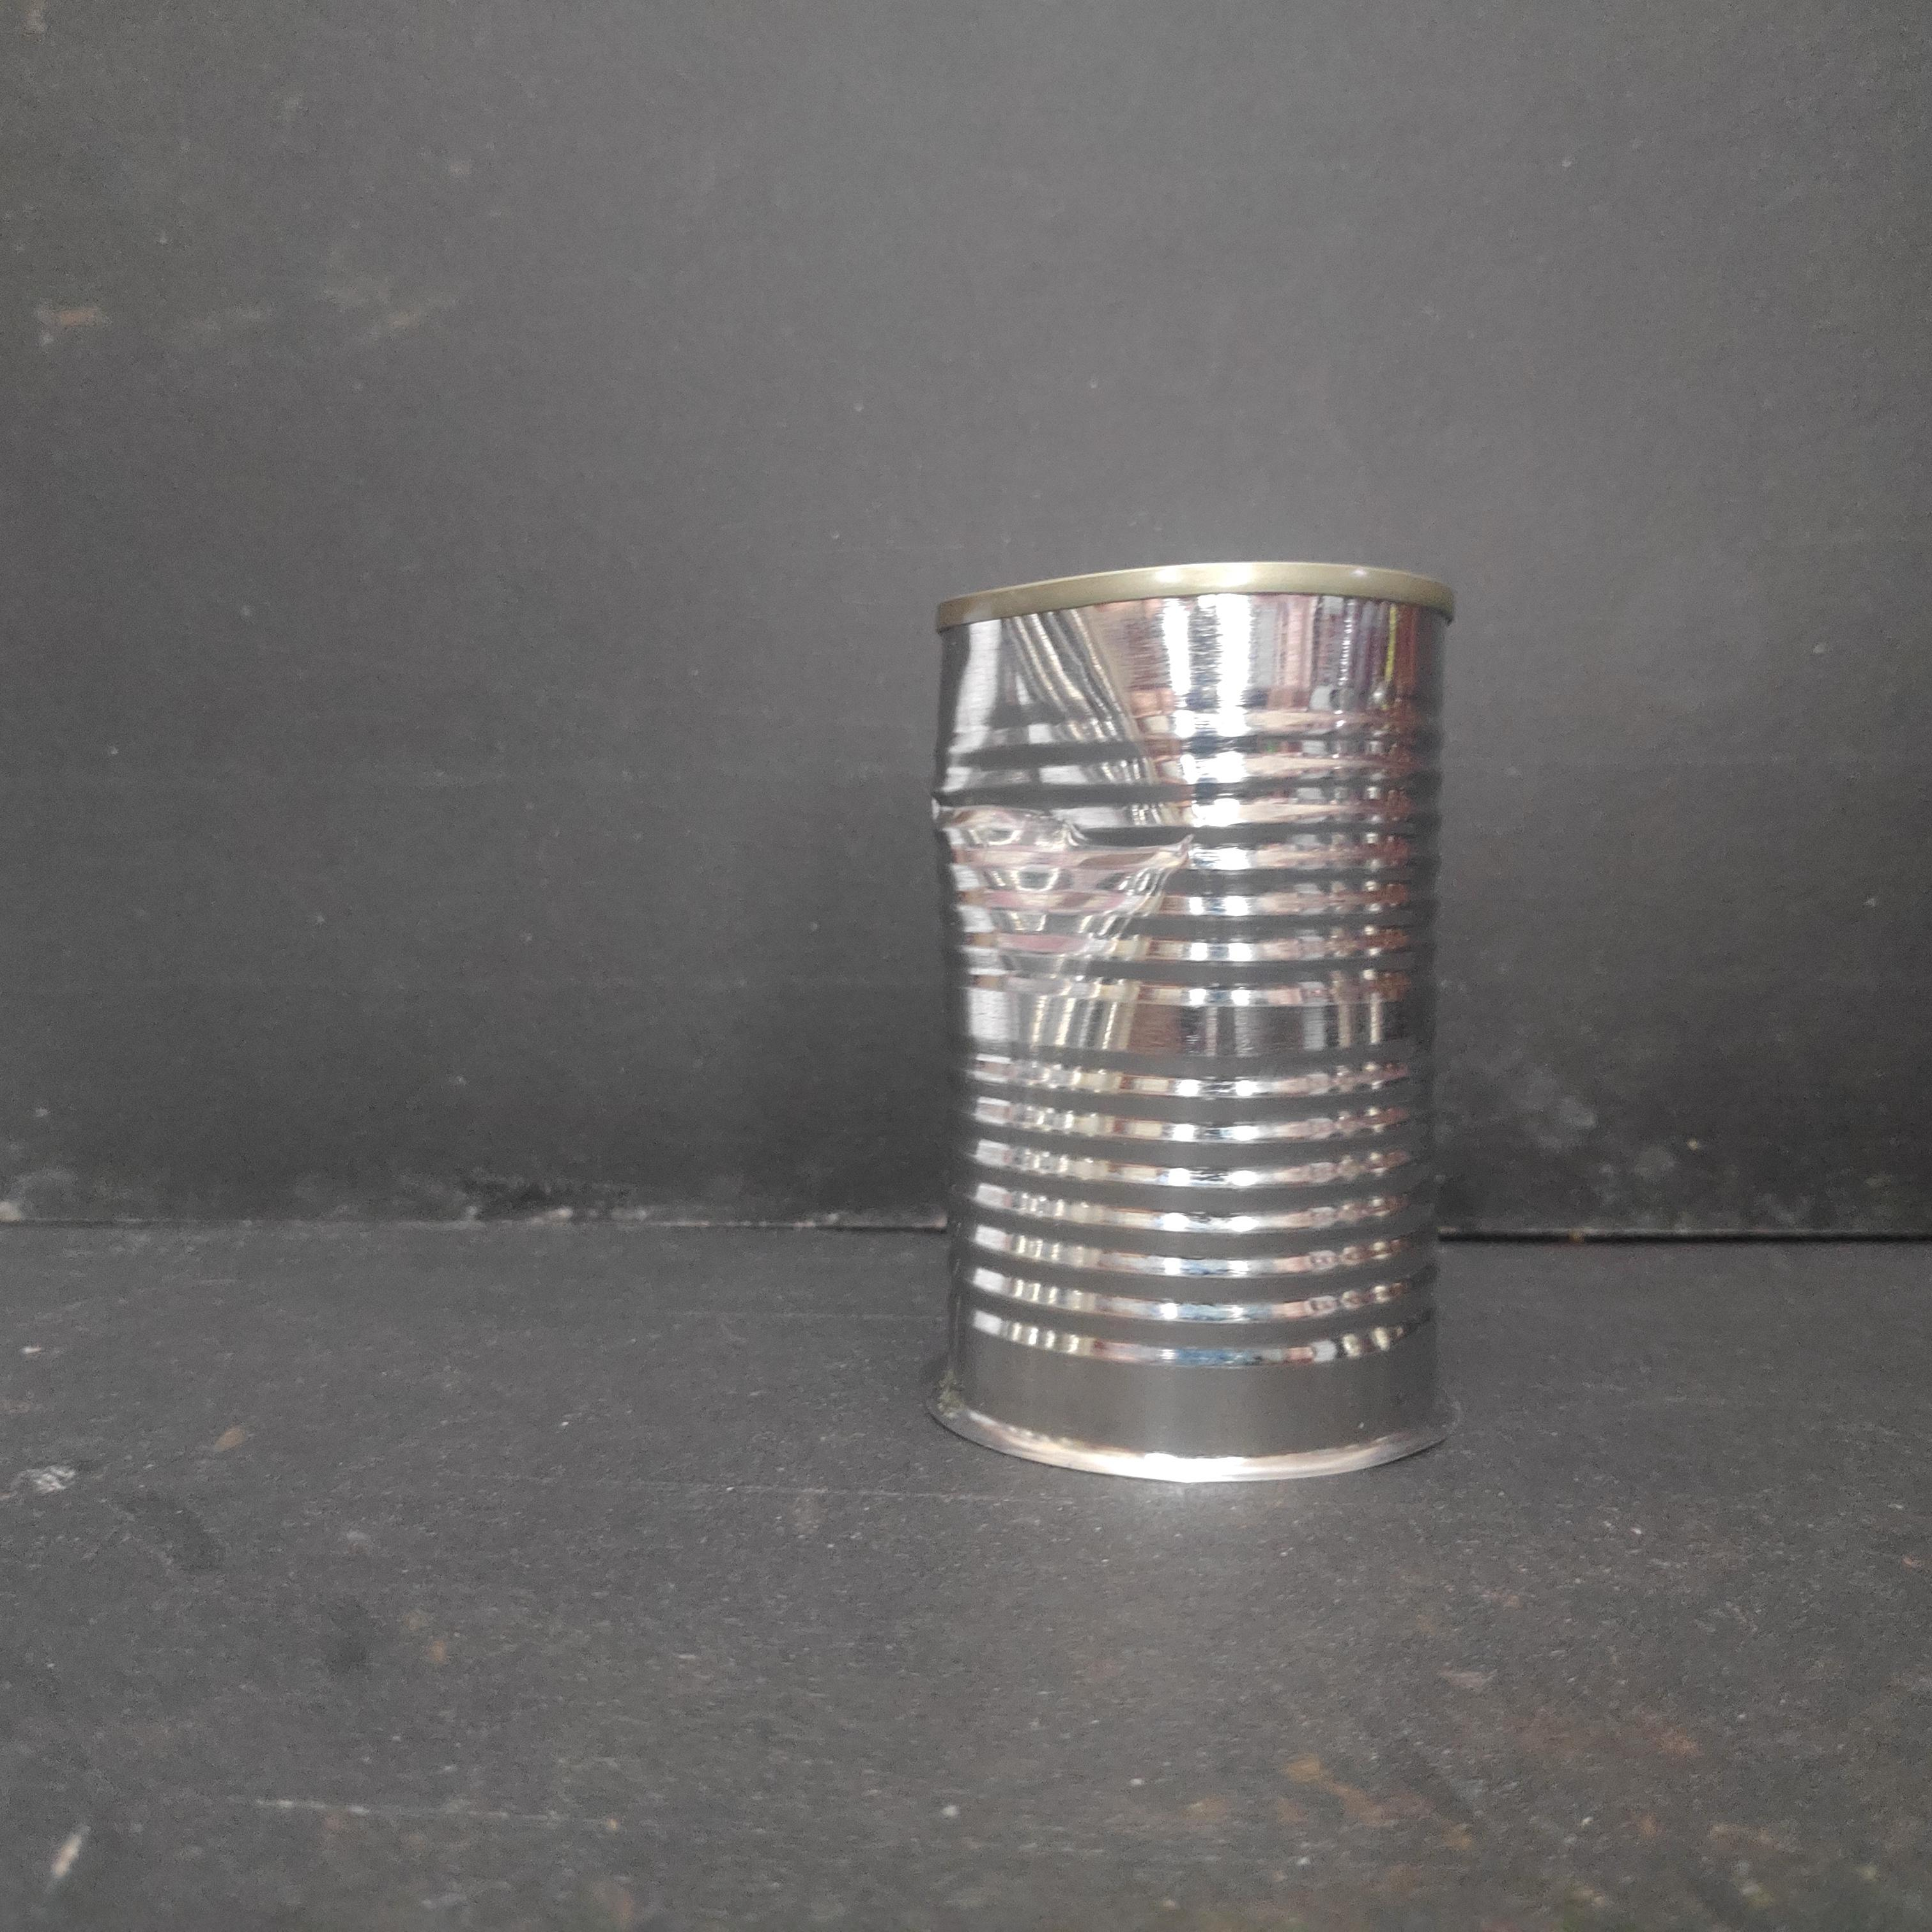Minor Defect: (924, 547, 1468, 1502)
